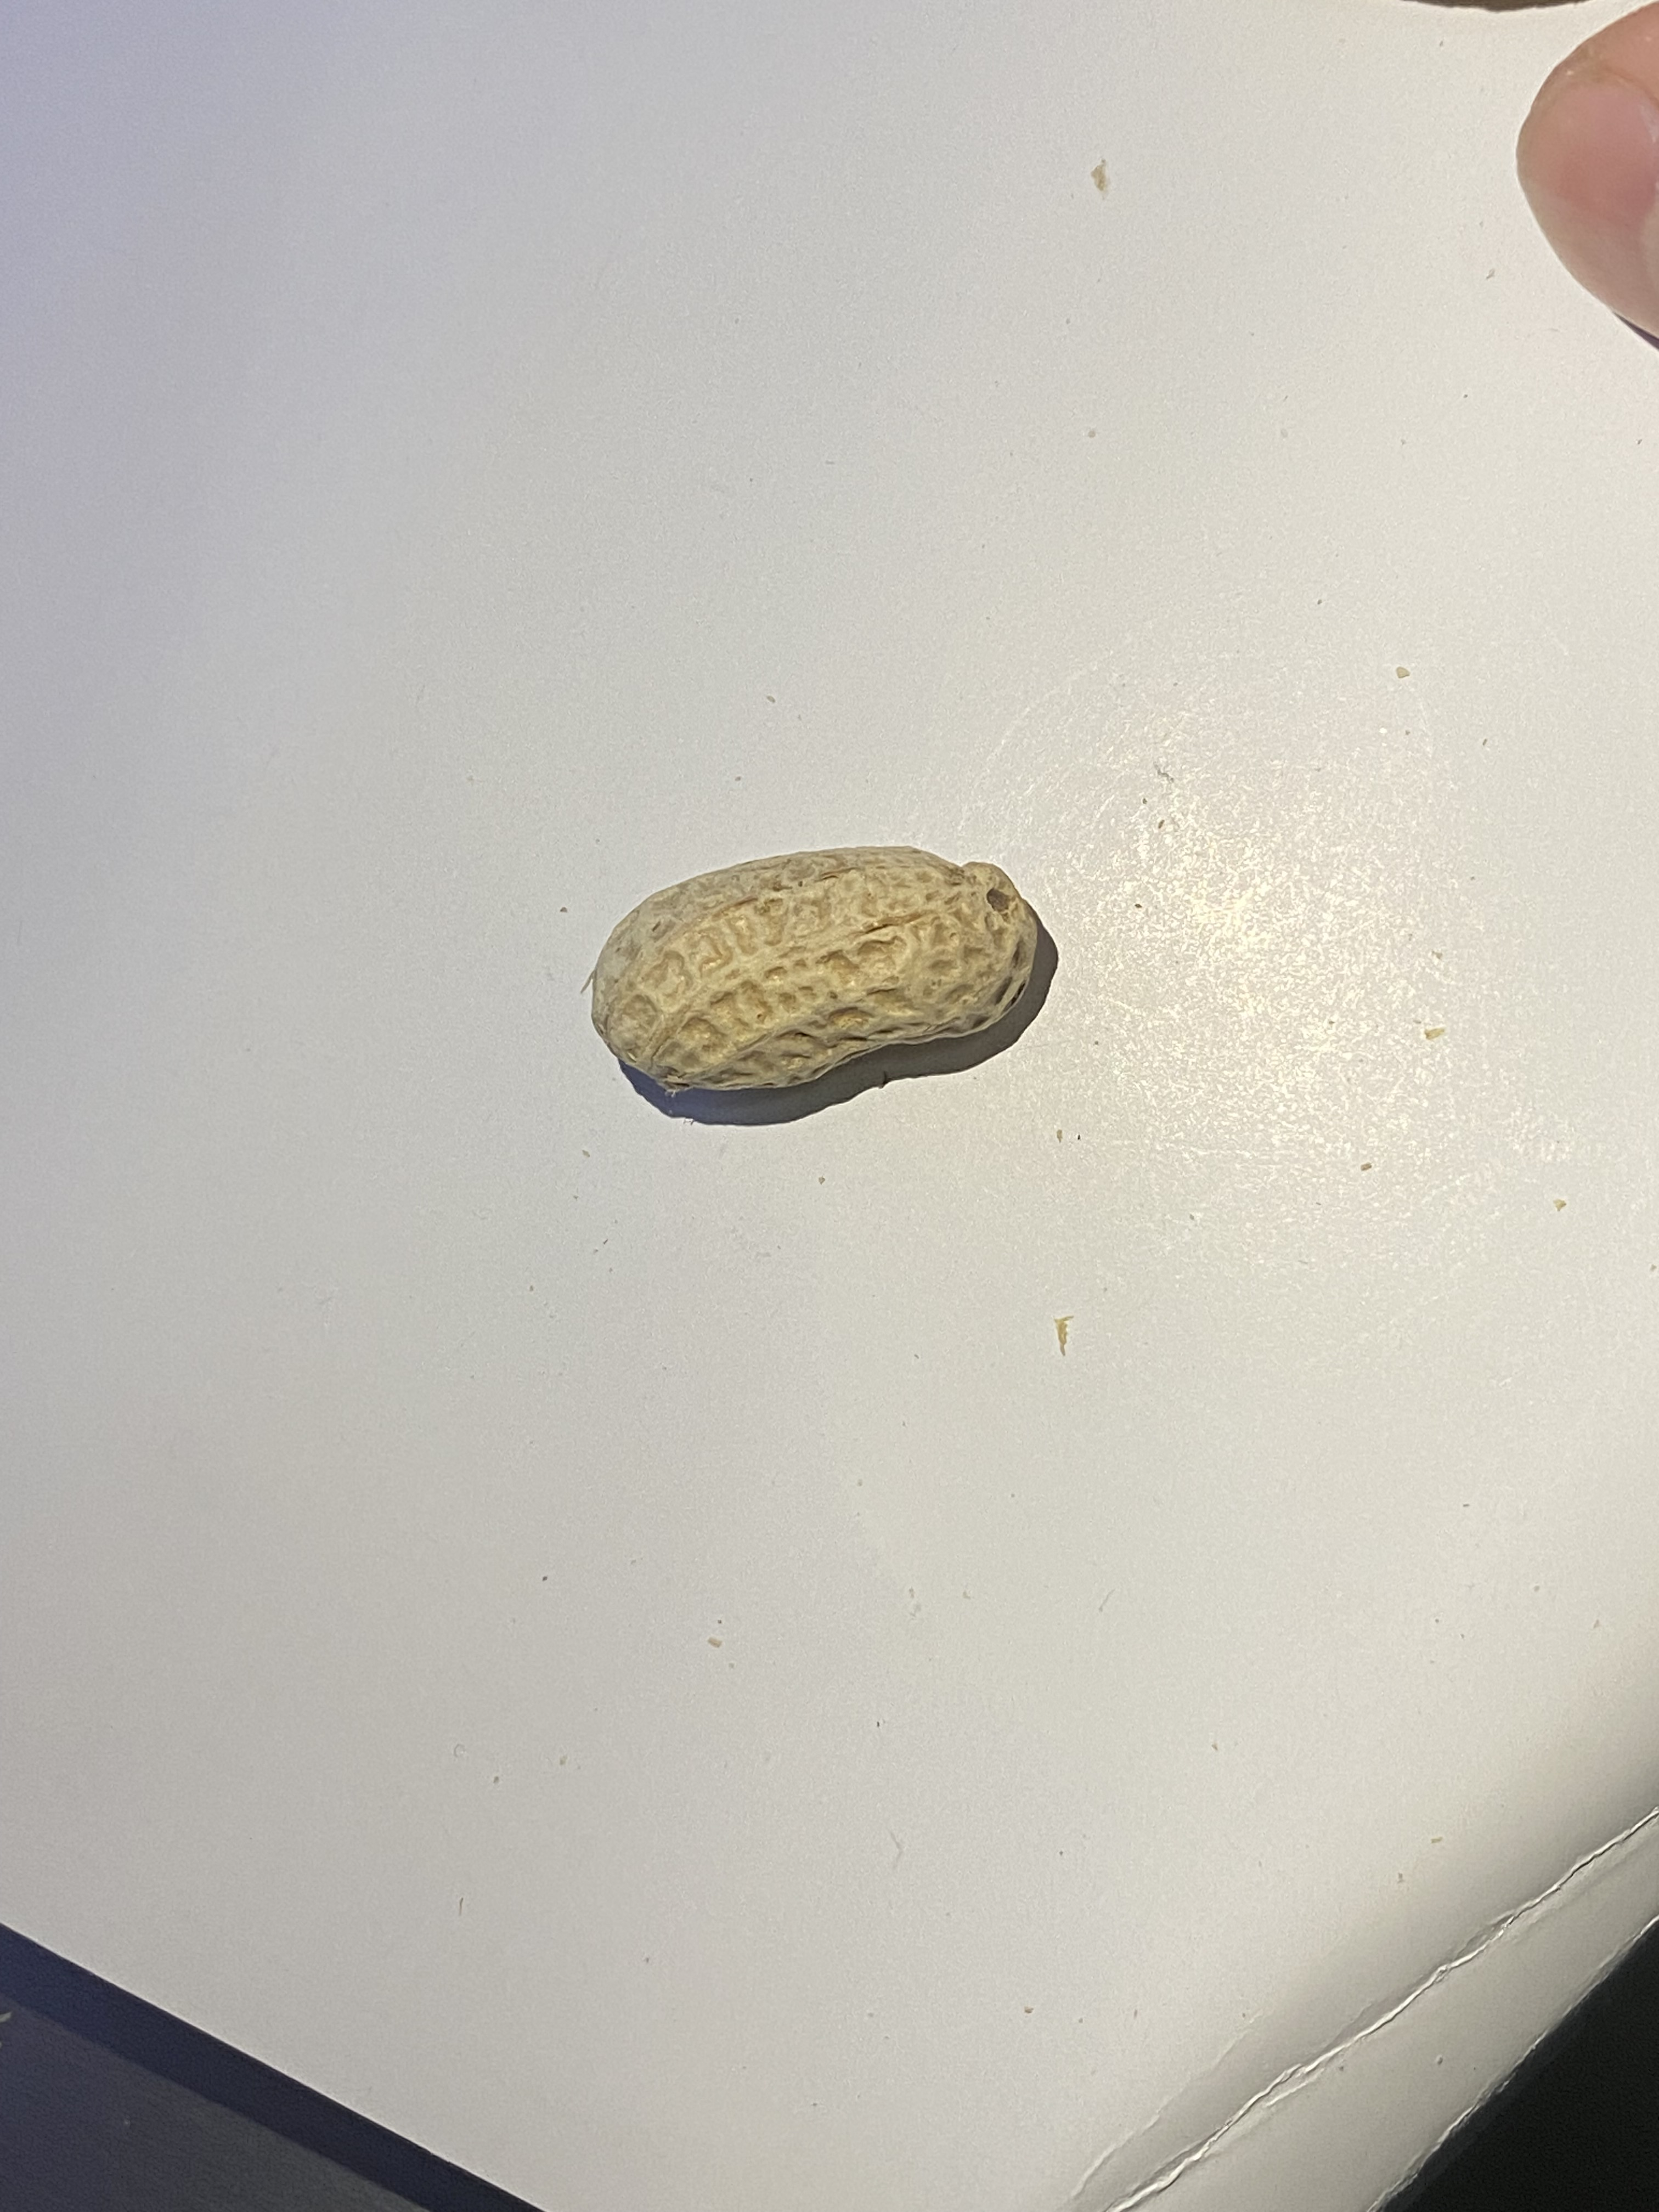kacang2: (558, 833, 1080, 1106)
